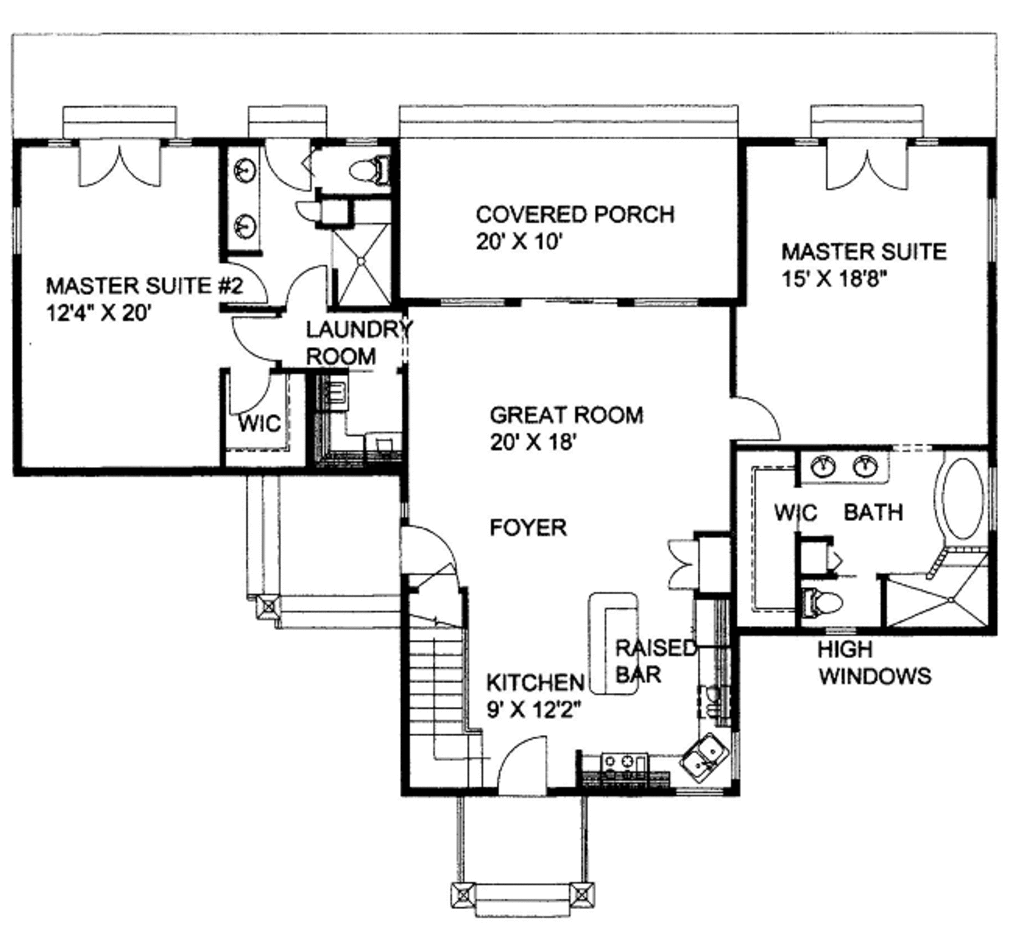door: (814, 135, 908, 197), (76, 135, 169, 194), (486, 725, 560, 791), (394, 519, 460, 585), (657, 536, 720, 591), (723, 393, 789, 443), (220, 259, 282, 310), (226, 314, 289, 364), (260, 138, 318, 190), (224, 367, 278, 422), (279, 264, 333, 311)
kitchen_bar: (584, 587, 643, 701)
large_sink: (331, 140, 413, 198), (797, 583, 847, 622)
small_sink: (213, 142, 271, 255), (798, 448, 886, 483)
stairs: (405, 588, 491, 784)
twin_sink: (653, 719, 739, 784)
window: (976, 193, 1005, 269), (431, 290, 513, 309), (631, 294, 702, 311), (986, 464, 1004, 529)
